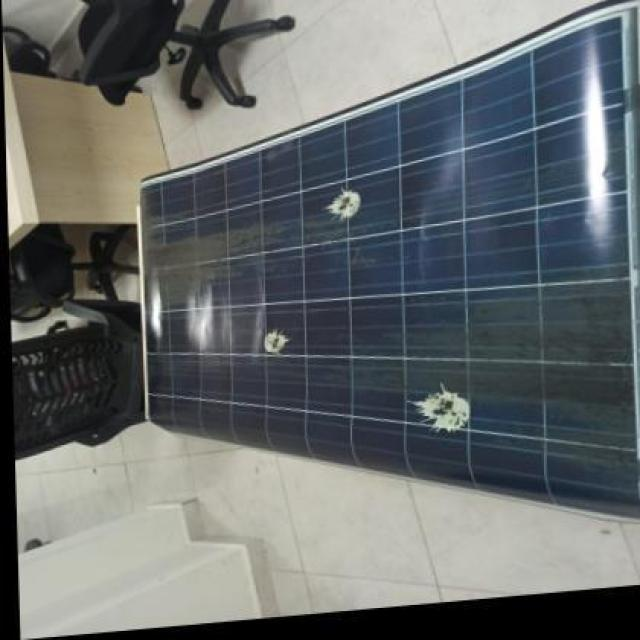soiled: (134, 15, 640, 517)
